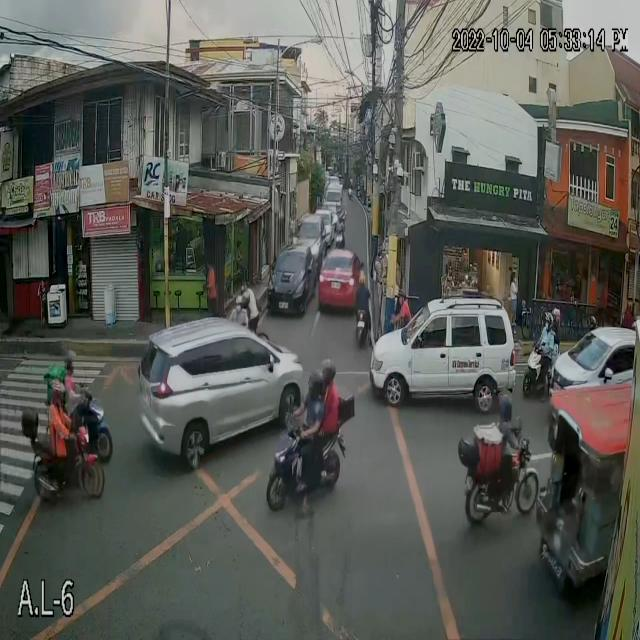Full-Faced: (322, 351, 338, 388), (496, 387, 514, 418), (306, 368, 324, 396), (49, 372, 65, 401), (547, 300, 562, 329)
Half-Faced: (58, 344, 80, 376), (540, 308, 553, 340)
Invalid: (236, 296, 248, 322)
